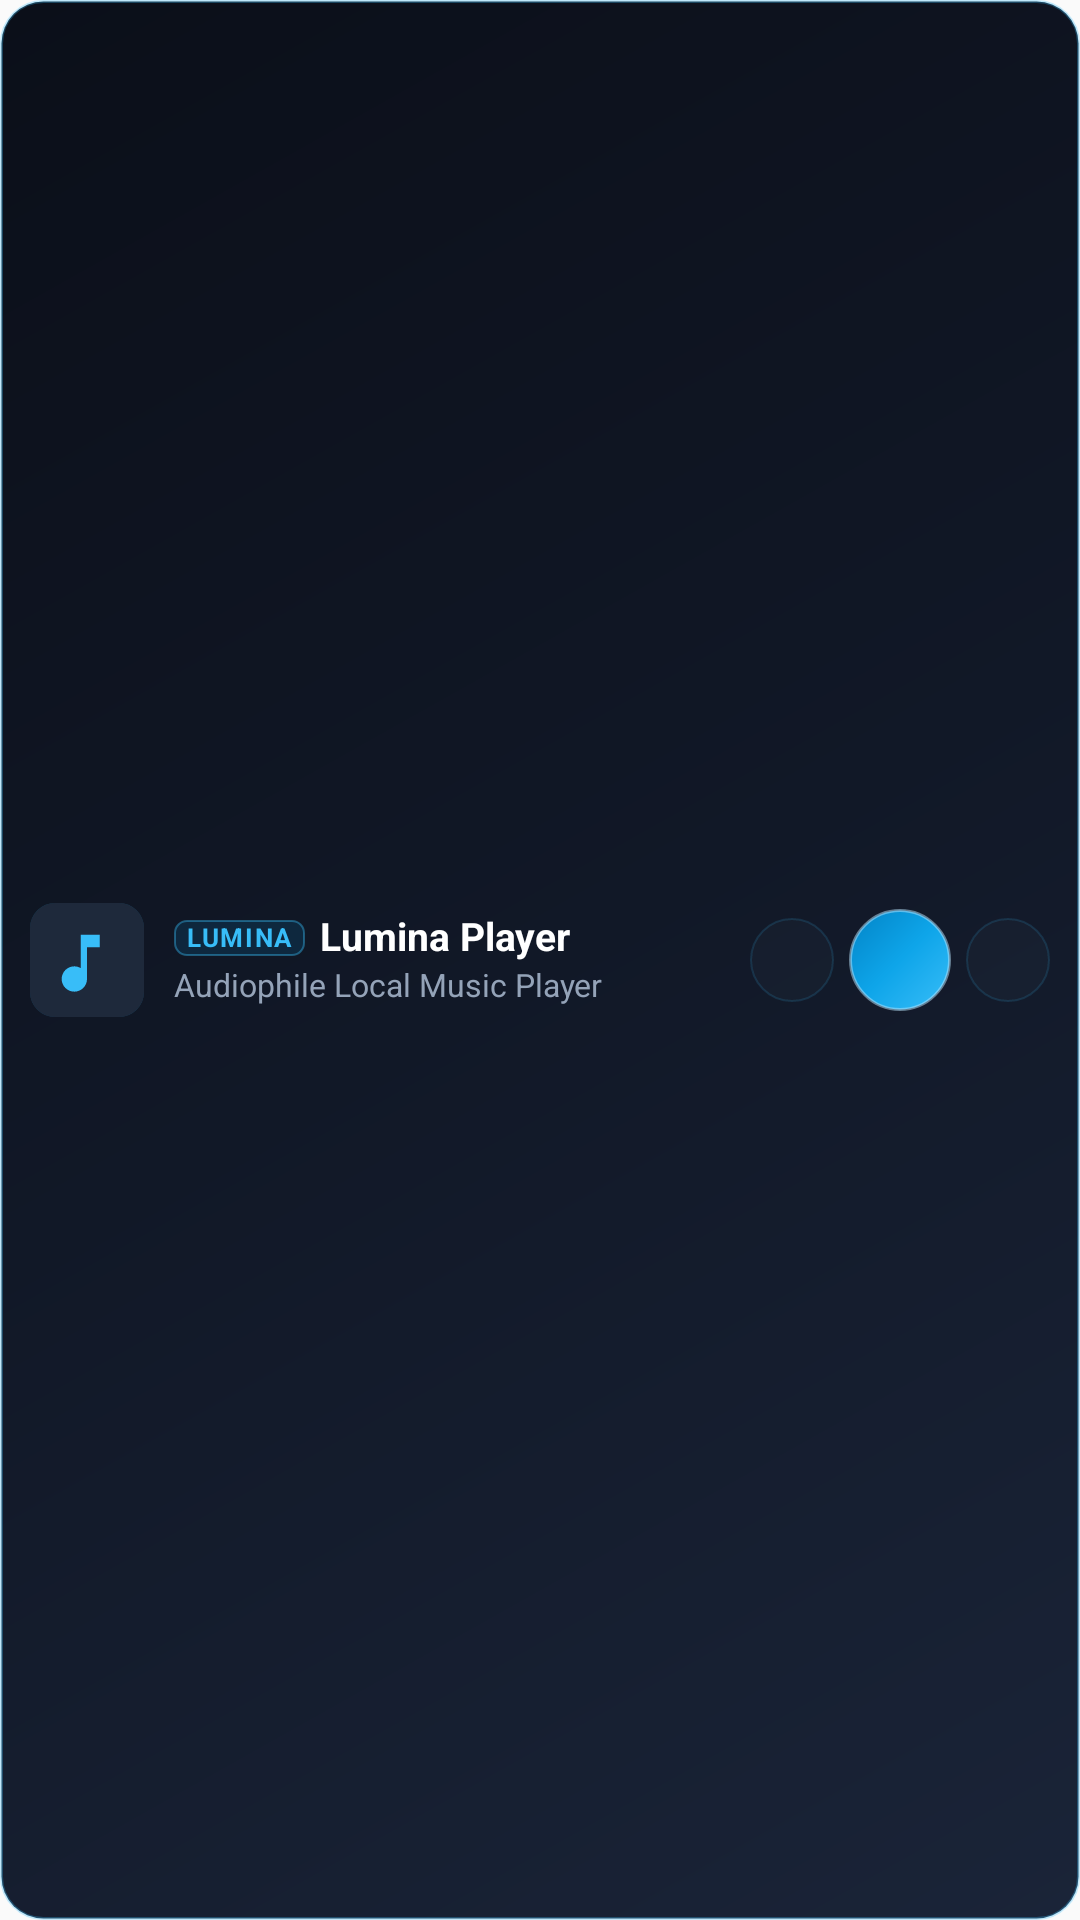

Screen size 1080w x 1920h. Icon name, then its box in pixels as (x1, y1, x2, y2):
widget art: (30, 903, 144, 1017)
